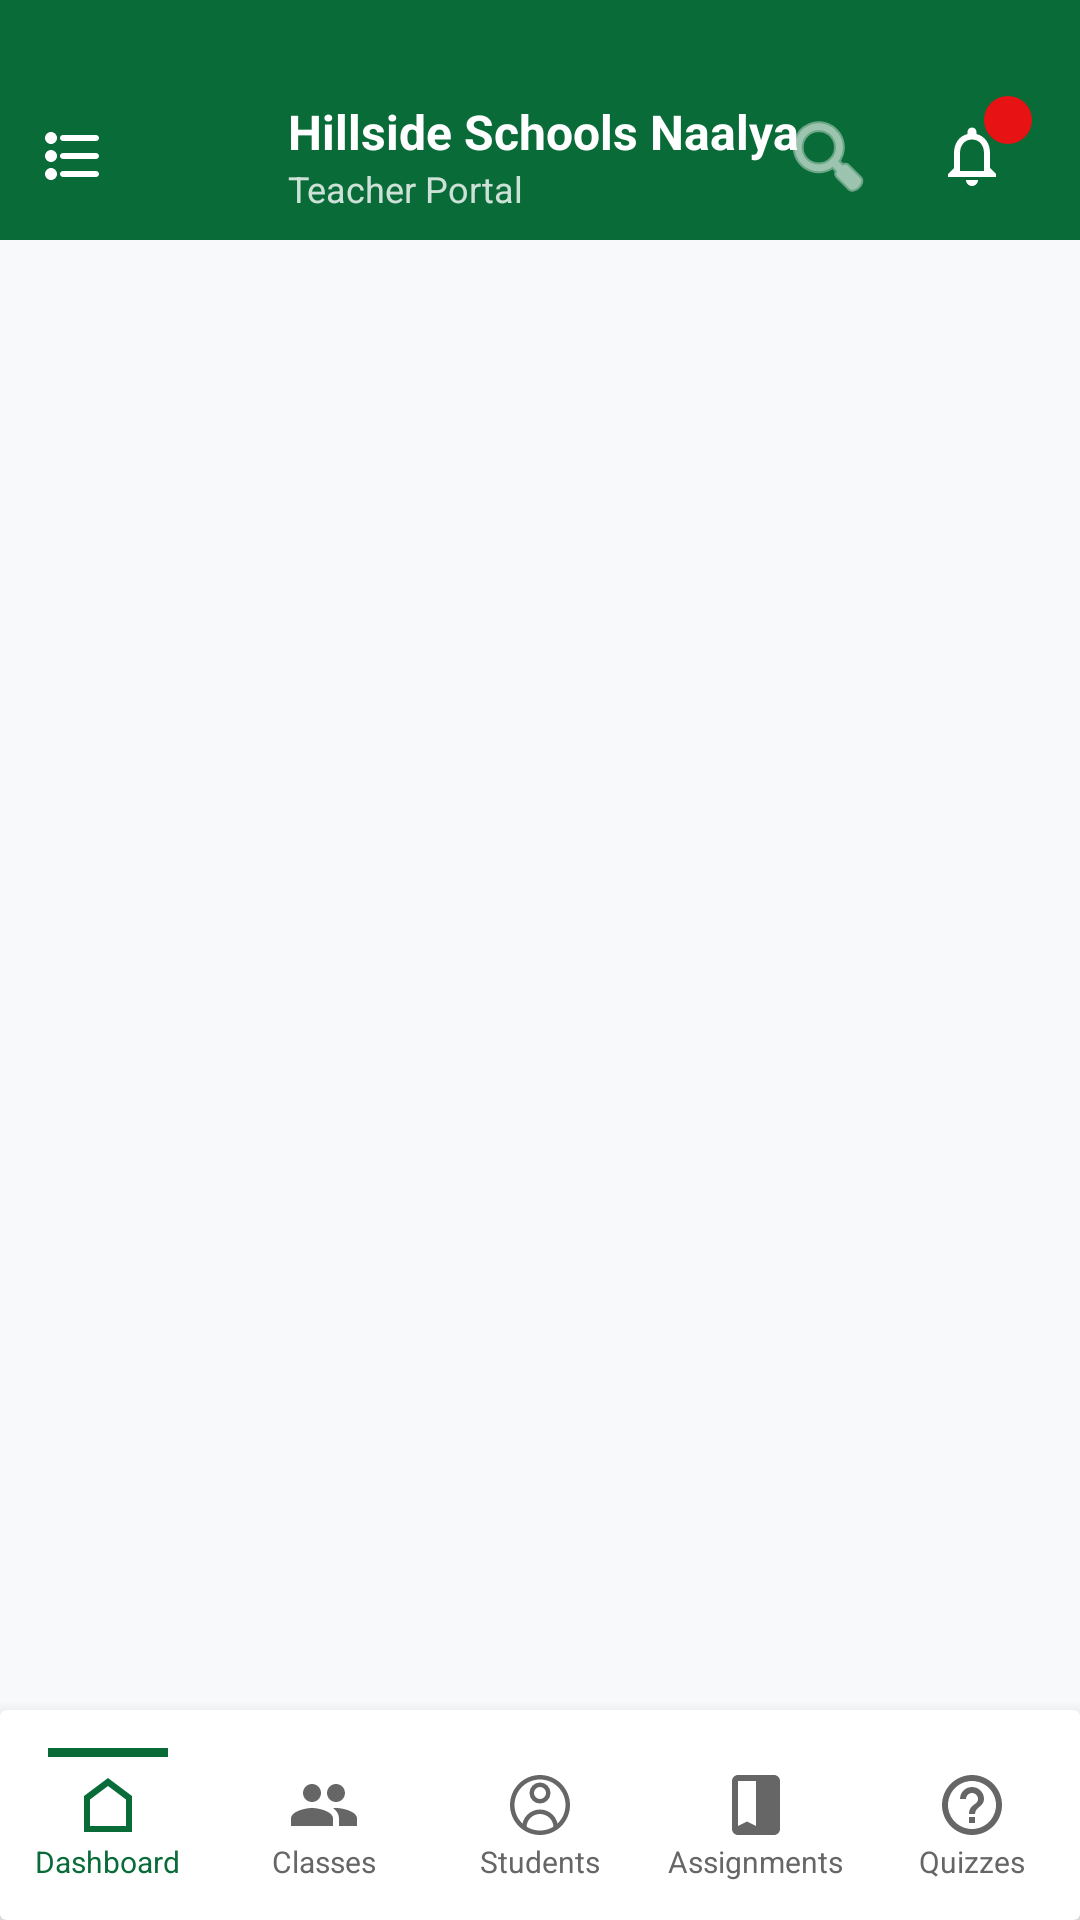

Screen size 1080*1920. Icon name, then its center in pixels as (x=x, y=y):
help: (x=972, y=1805)
home: (x=108, y=1805)
notifications: (x=972, y=156)
profile: (x=540, y=1805)
search: (x=819, y=156)
